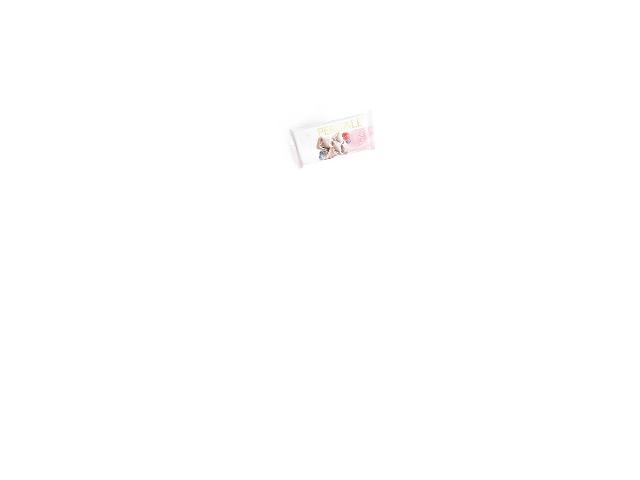chocolate: (291, 110, 374, 170)
